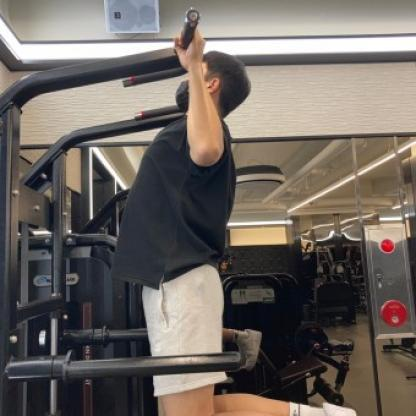Lat Pull Down: (8, 6, 363, 416)
